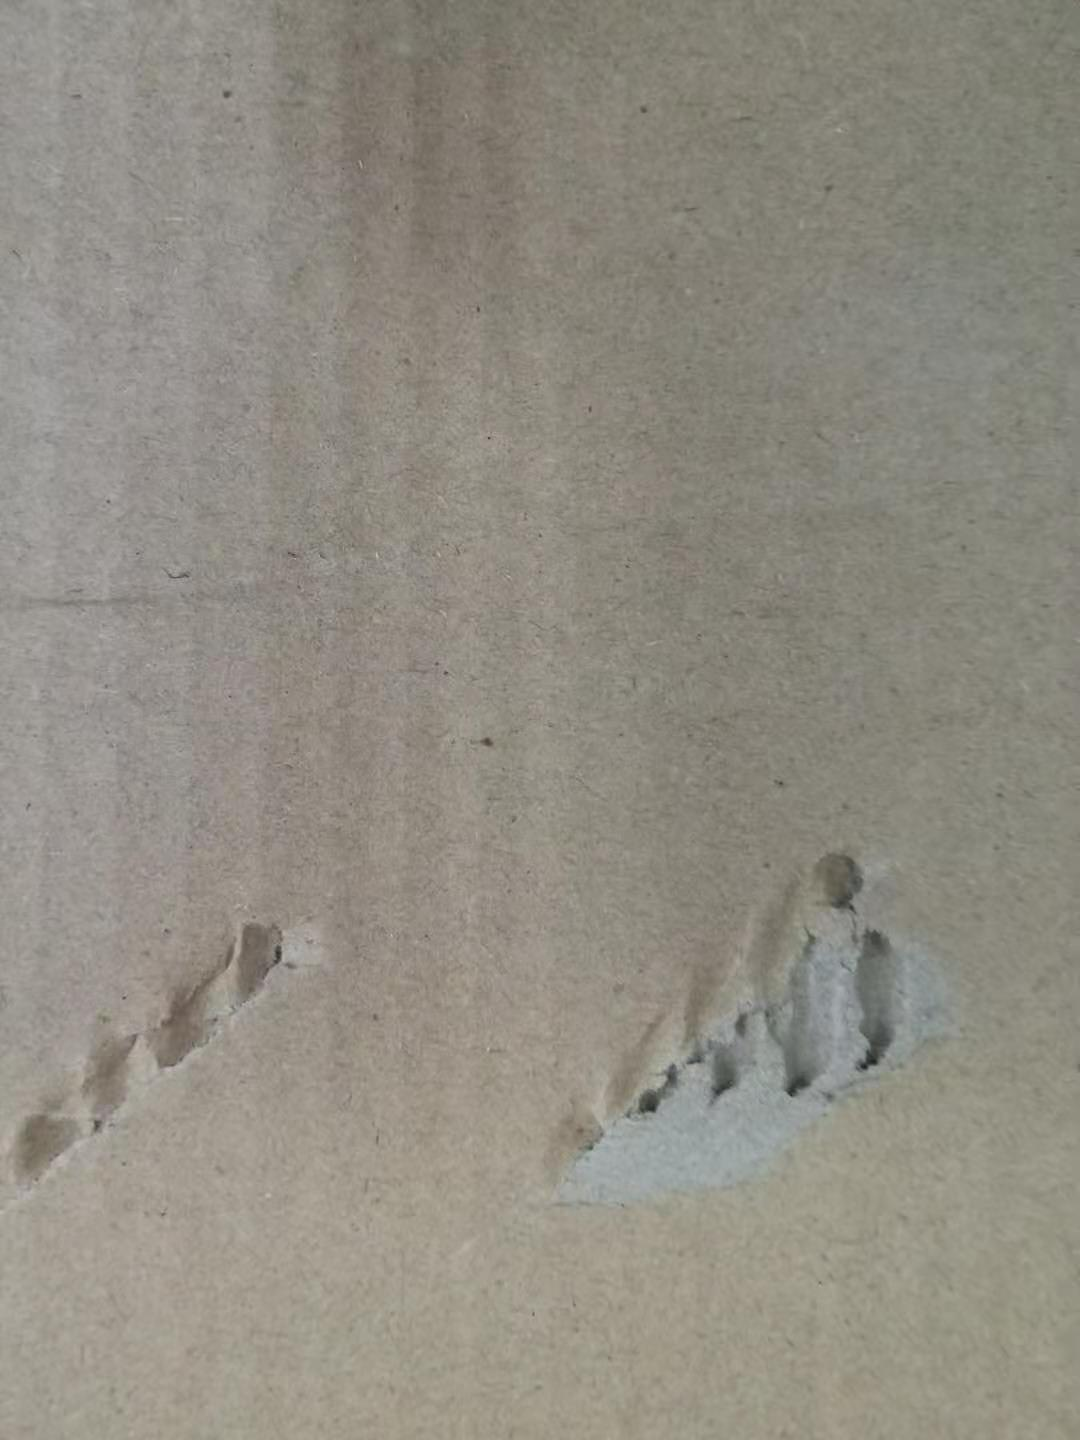defect: (514, 812, 1009, 1244), (2, 876, 346, 1219), (3, 532, 399, 639)
